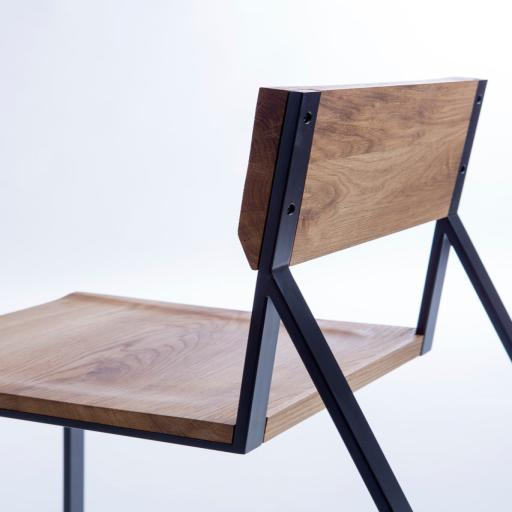chair: (0, 68, 504, 511)
